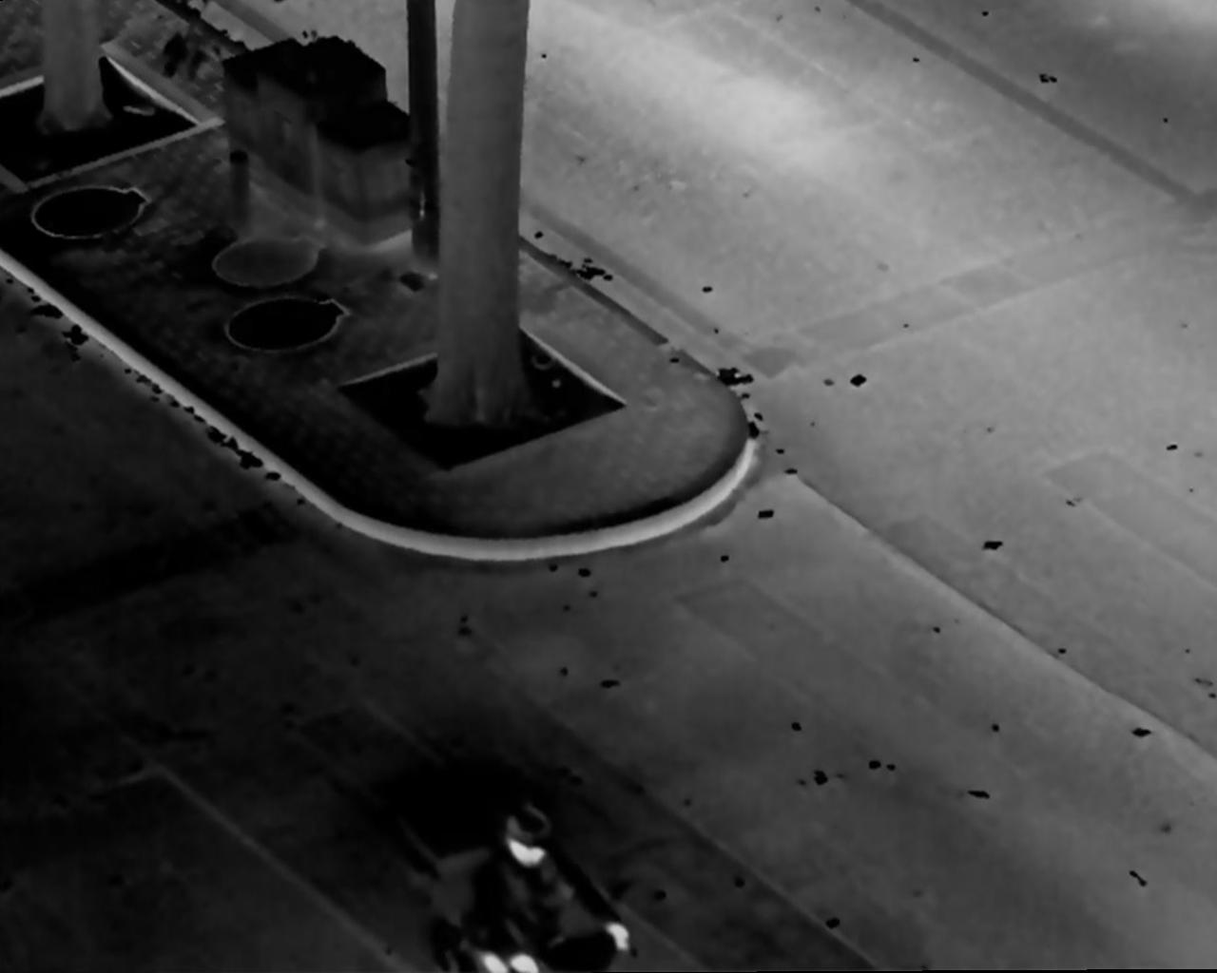person: (469, 801, 617, 973)
